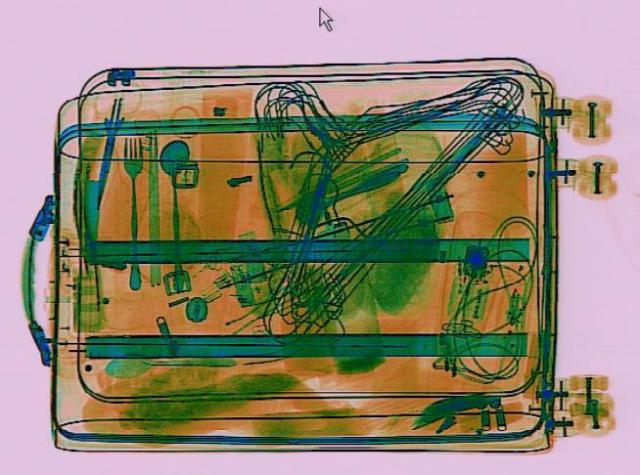Knife: (86, 96, 125, 207)
